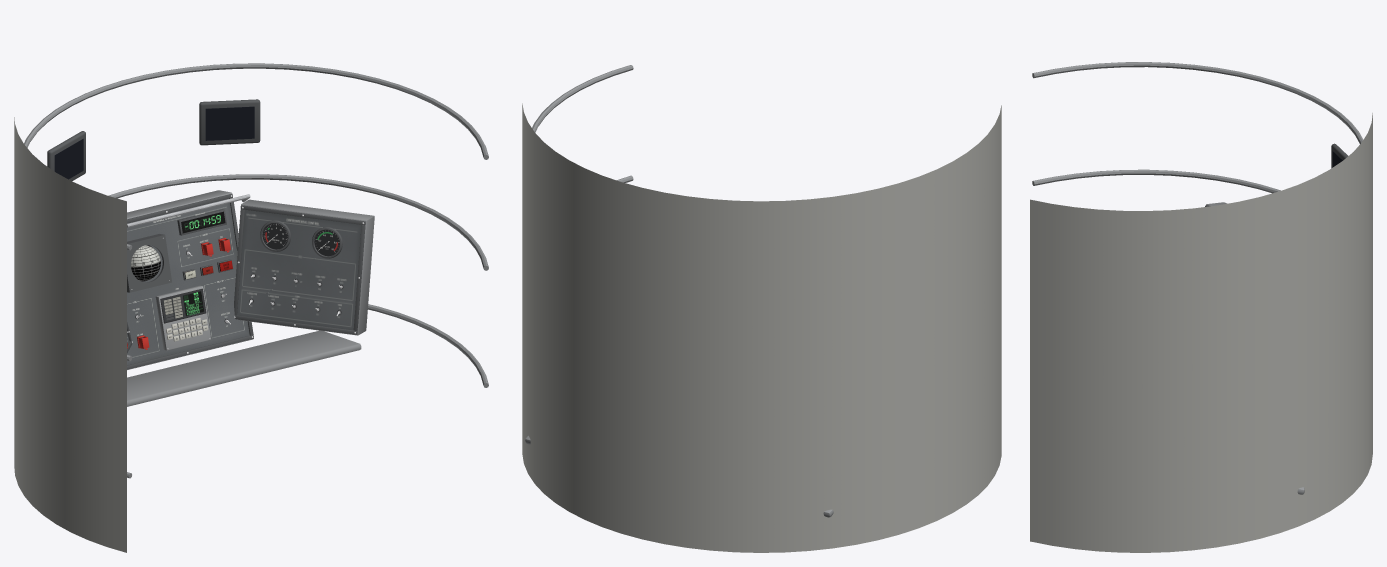
File: cabin-panels.glb
The picture shows the model from 3 angles, left to right: view 1: azimuth 30°, elevation 25°; view 2: azimuth 150°, elevation 25°; view 3: azimuth 270°, elevation 25°; orthographic projection. The views are drawn at different scales.
Parts seen in each view (by area): view 1: cabin-shell-geo, panel-ecs-body-geo, panel-gnc-body-geo, dsky-display-geo, fdai-ball-geo; view 2: cabin-shell-geo; view 3: cabin-shell-geo.
Part boxes in pixels (x1,y1,x2,y2): cabin-shell-geo: [14, 63, 488, 552]; panel-ecs-body-geo: [234, 199, 374, 335]; panel-gnc-body-geo: [127, 190, 253, 369]; dsky-display-geo: [161, 290, 205, 322]; fdai-ball-geo: [131, 245, 160, 280]; cabin-shell-geo: [522, 65, 1001, 552]; cabin-shell-geo: [1030, 62, 1372, 552].
Bounding box in the file's own units: 2.04 × 1.65 × 1.5.
Materials: 26 (14 with a texture image).
